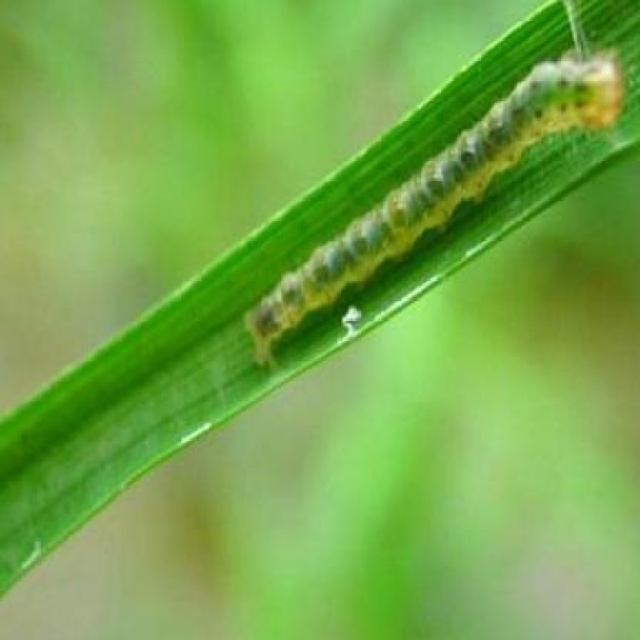leaf-folder: (241, 21, 622, 376)
